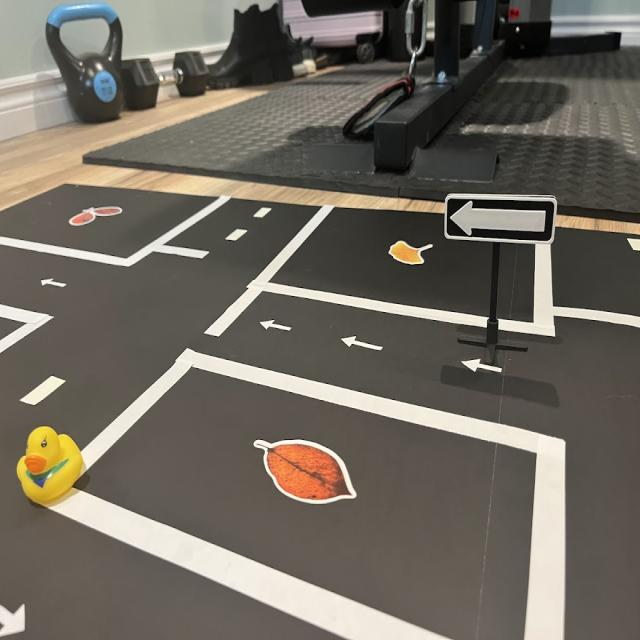duck_regular: (14, 428, 88, 513)
road_oneway: (333, 330, 389, 361), (1, 591, 36, 640), (460, 353, 505, 378), (254, 315, 298, 339), (37, 275, 71, 294)
sign_oneway_left: (445, 192, 559, 247)
